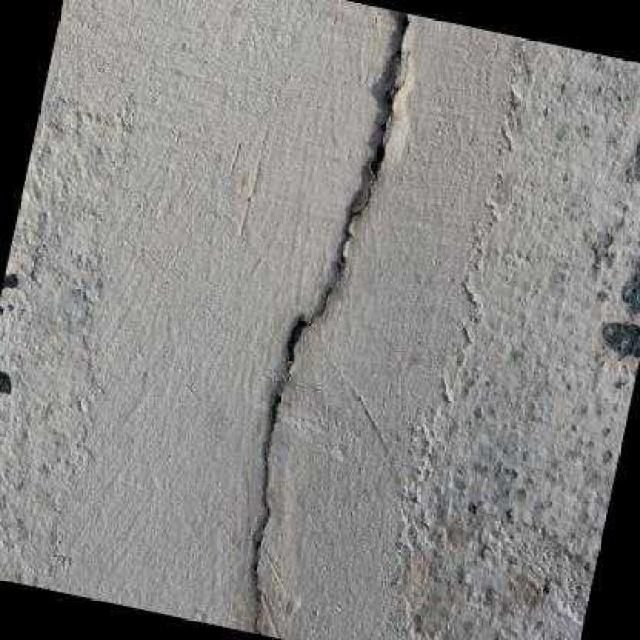D00: (246, 9, 413, 635)
